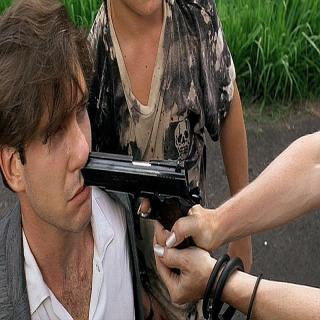gun: (78, 132, 205, 306)
